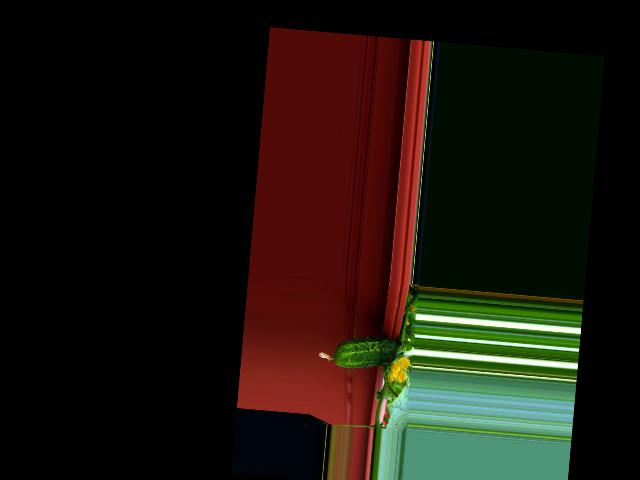cucumber: (317, 332, 398, 372)
